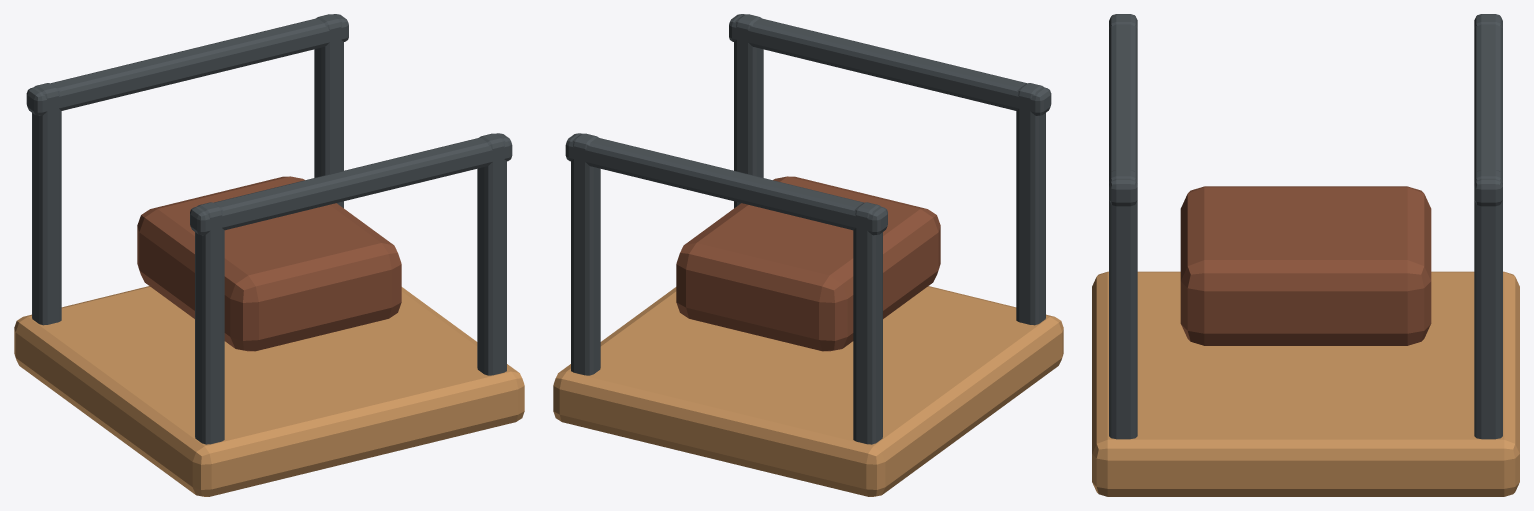
The model's file is module_scout_perch_v01.glb.
The picture shows the model from 3 angles, left to right: view 1: azimuth 30°, elevation 25°; view 2: azimuth 150°, elevation 25°; view 3: azimuth 270°, elevation 25°; orthographic projection. The views are drawn at different scales.
Visible parts, largest first — view 1: GEO_ScoutPlatform, GEO_ScoutSeat, GEO_ScoutRail.001, GEO_ScoutRail, GEO_ScoutPost, GEO_ScoutPost.002, GEO_ScoutPost.001, GEO_ScoutPost.003; view 2: GEO_ScoutPlatform, GEO_ScoutSeat, GEO_ScoutRail.001, GEO_ScoutRail, GEO_ScoutPost, GEO_ScoutPost.001, GEO_ScoutPost.003, GEO_ScoutPost.002; view 3: GEO_ScoutPlatform, GEO_ScoutSeat, GEO_ScoutPost.002, GEO_ScoutPost.003, GEO_ScoutRail, GEO_ScoutRail.001.
Part boxes in pixels (x1,y1,x2,y2): GEO_ScoutPlatform: (14,286,524,496); GEO_ScoutSeat: (137,176,401,351); GEO_ScoutRail.001: (26,14,348,115); GEO_ScoutRail: (190,133,512,235); GEO_ScoutPost: (195,202,224,444); GEO_ScoutPost.002: (477,133,506,375); GEO_ScoutPost.001: (32,83,61,325); GEO_ScoutPost.003: (314,14,343,208); GEO_ScoutPlatform: (553,286,1063,496); GEO_ScoutSeat: (676,176,940,351); GEO_ScoutRail.001: (565,133,887,235); GEO_ScoutRail: (729,14,1051,115); GEO_ScoutPost: (1016,83,1045,325); GEO_ScoutPost.001: (853,202,882,444); GEO_ScoutPost.003: (571,133,600,375); GEO_ScoutPost.002: (734,14,763,208); GEO_ScoutPlatform: (1092,271,1519,496); GEO_ScoutSeat: (1180,186,1431,345); GEO_ScoutPost.002: (1109,170,1137,439); GEO_ScoutPost.003: (1474,170,1502,439); GEO_ScoutRail: (1109,14,1137,206); GEO_ScoutRail.001: (1474,14,1502,206).
Bounding box in the file's own units: 0.82 × 0.67 × 0.82.
